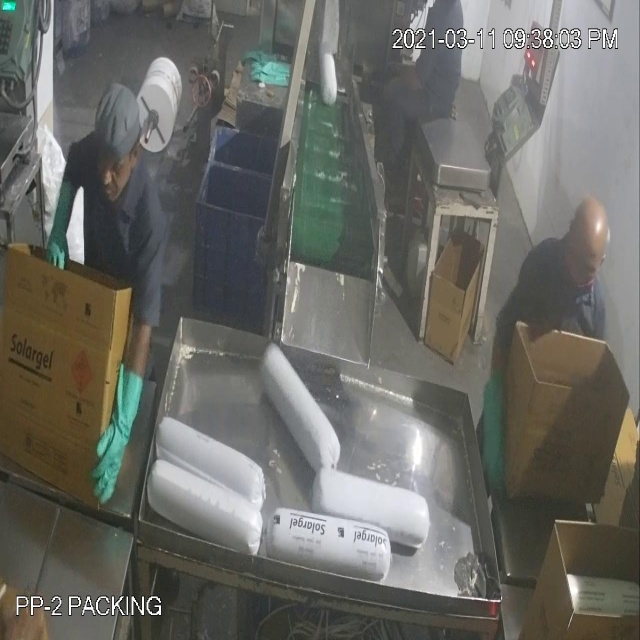Guantes: (85, 352, 146, 506), (46, 172, 82, 300), (478, 358, 507, 508)
Sin_guantes: (383, 58, 436, 120)
